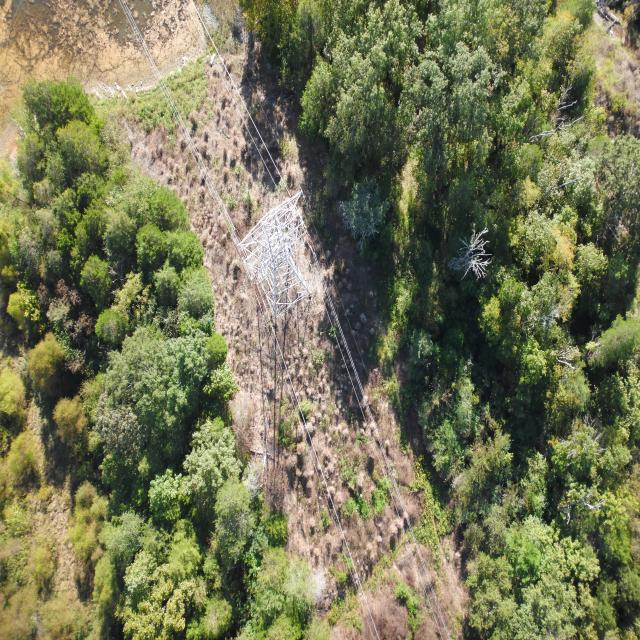Area of Interest: (259, 4, 639, 623), (8, 85, 322, 633)
